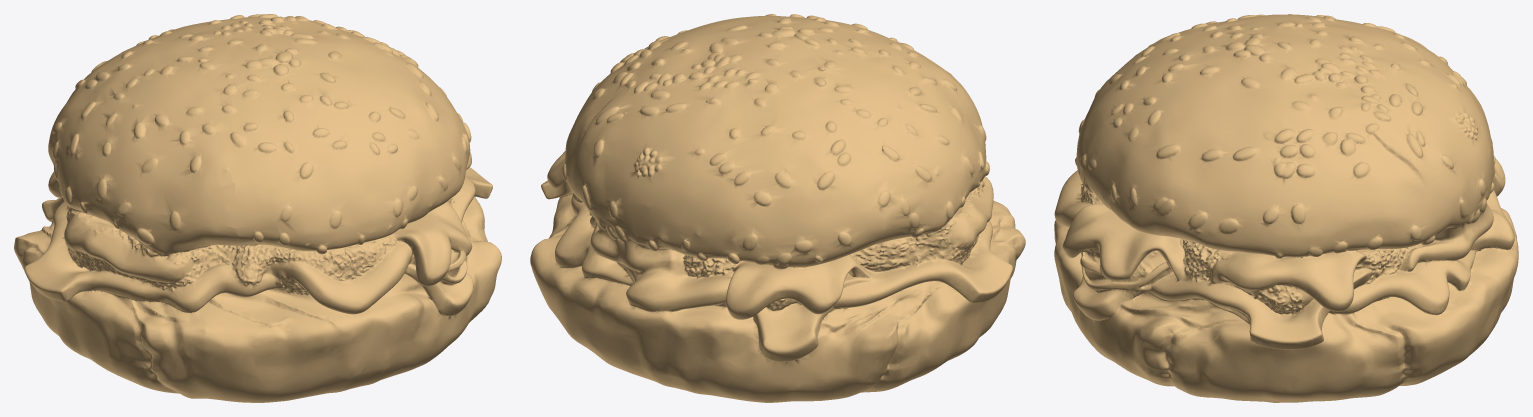
Rendered from crispy-chicken.glb.
The picture shows the model from 3 angles, left to right: view 1: azimuth 30°, elevation 25°; view 2: azimuth 150°, elevation 25°; view 3: azimuth 270°, elevation 25°; orthographic projection.
Visible parts, largest first — view 1: mesh_node; view 2: mesh_node; view 3: mesh_node.
Part boxes in pixels (box(x1,y1,x2,y2)): mesh_node: box(14, 14, 501, 402); mesh_node: box(530, 14, 1025, 402); mesh_node: box(1054, 14, 1518, 402).
Bounding box in the file's own units: 0.15 × 0.0915 × 0.1333.
